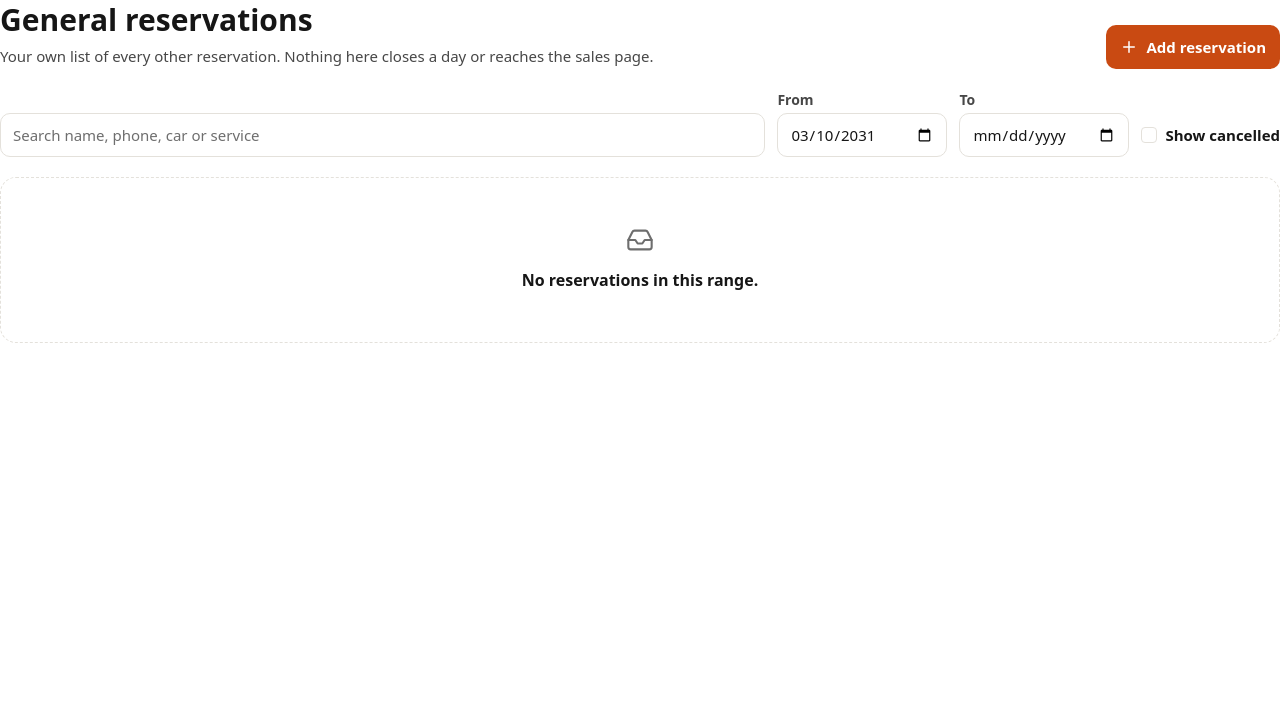
Scenario: General reservations page › adds a reservation with only a day and a service
Expected: the text "No reservations in this range." is shown, [522,266,758,294]
Click the button "Add reservation" at [1193, 47], box [1106,25,1279,69]
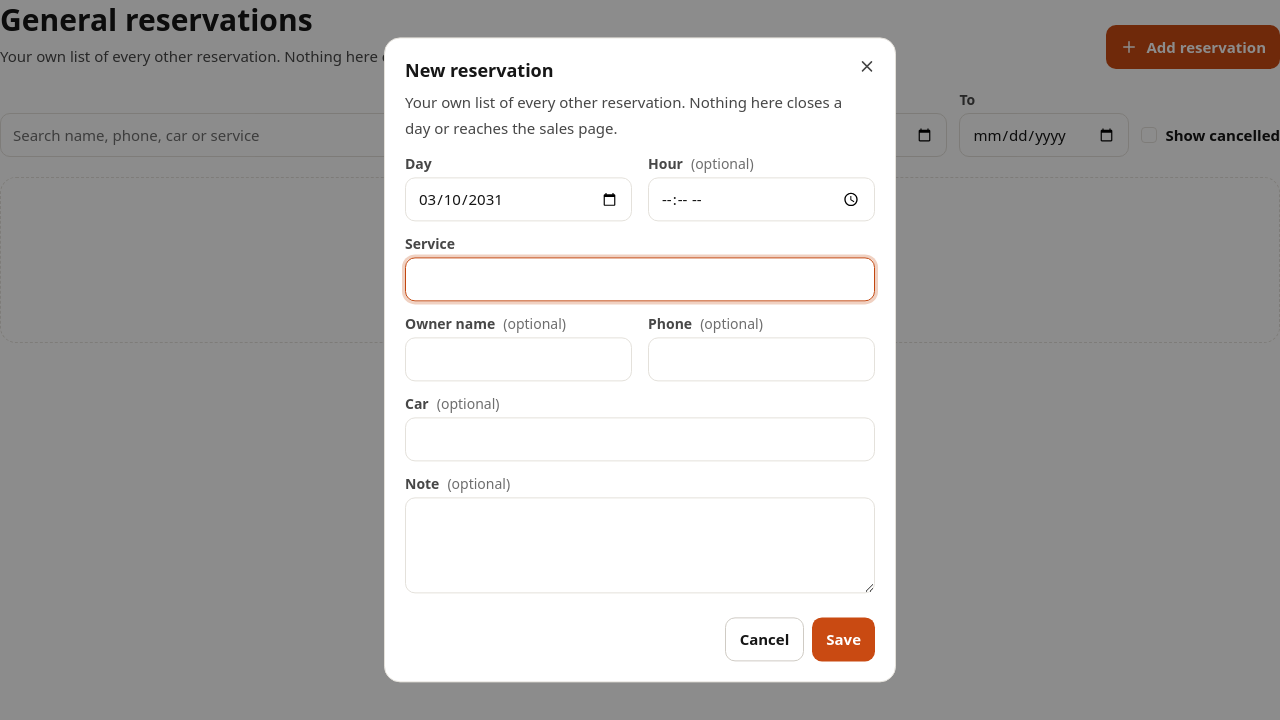
Expected: the date field labelled "Day" holds "2031-03-10", [405,178,632,222]
Click the button "Save" at [844, 640], box [812,618,875,662]
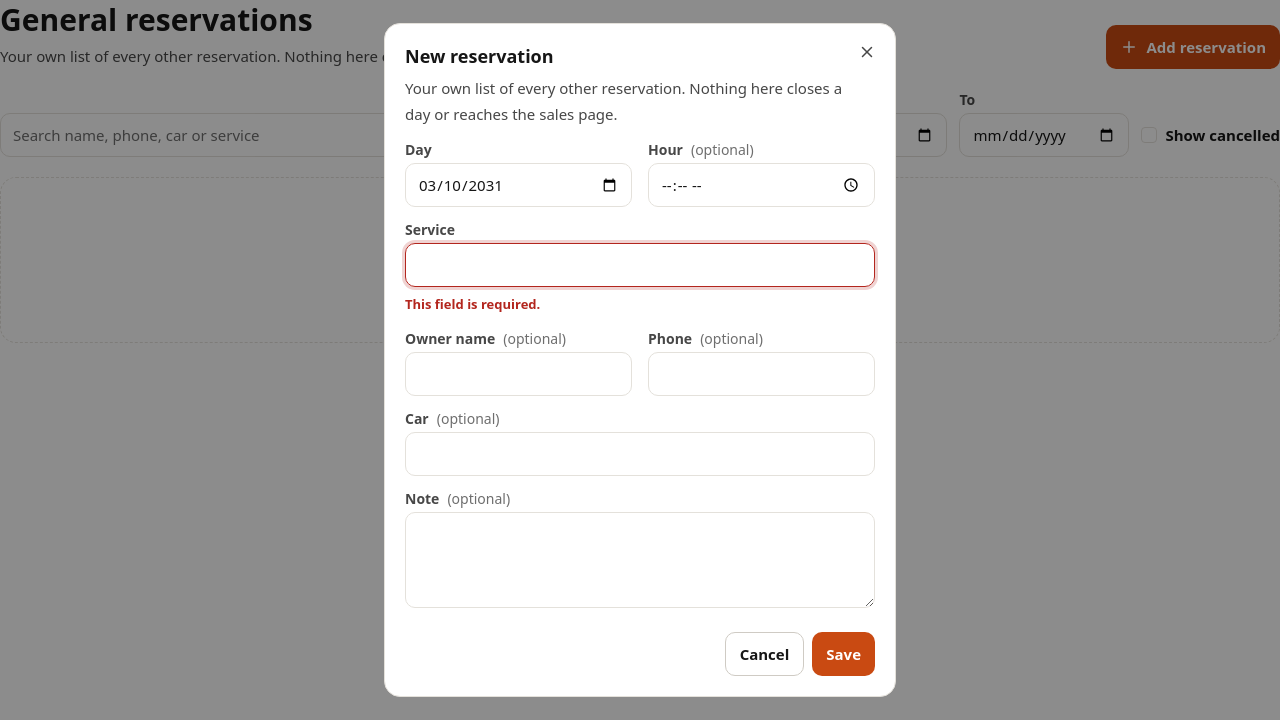
Expected: the text "This field is required." is shown, [405,295,540,313]
Type "Seat covers" into the field labelled "Service" at [640, 265], box [405,243,875,287]
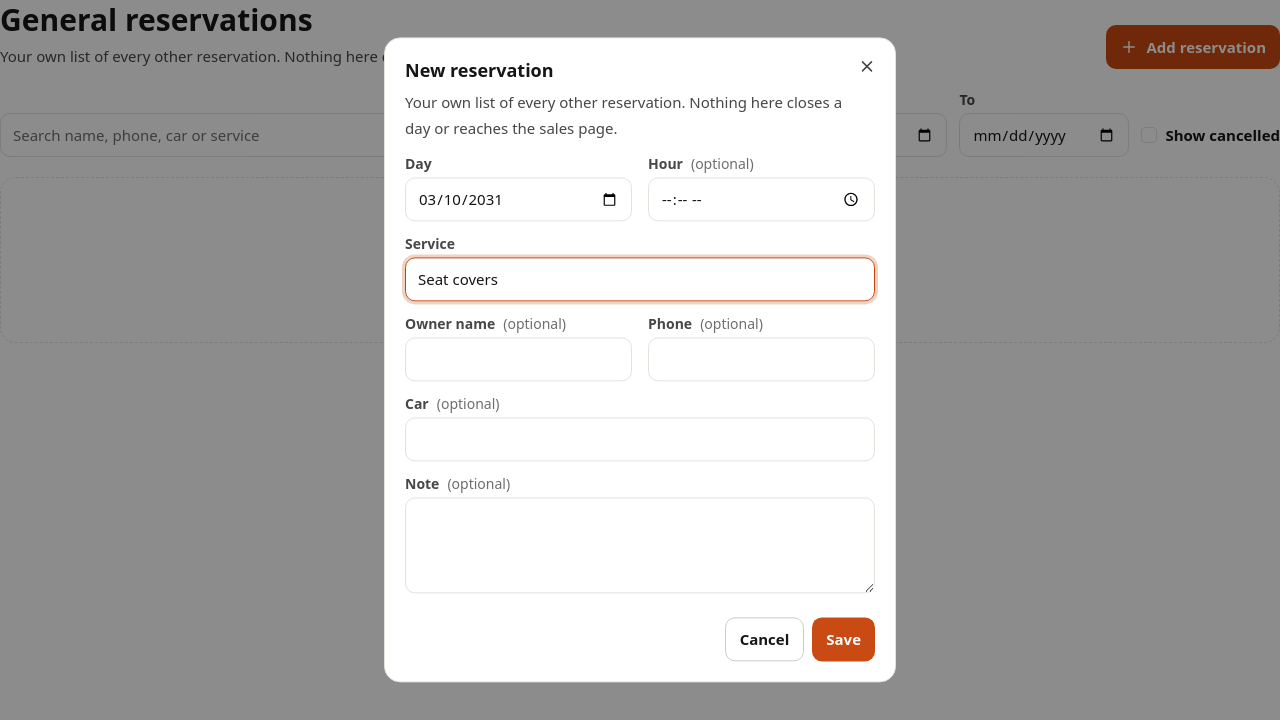
Click the button "Save" at [844, 640], box [812,618,875,662]
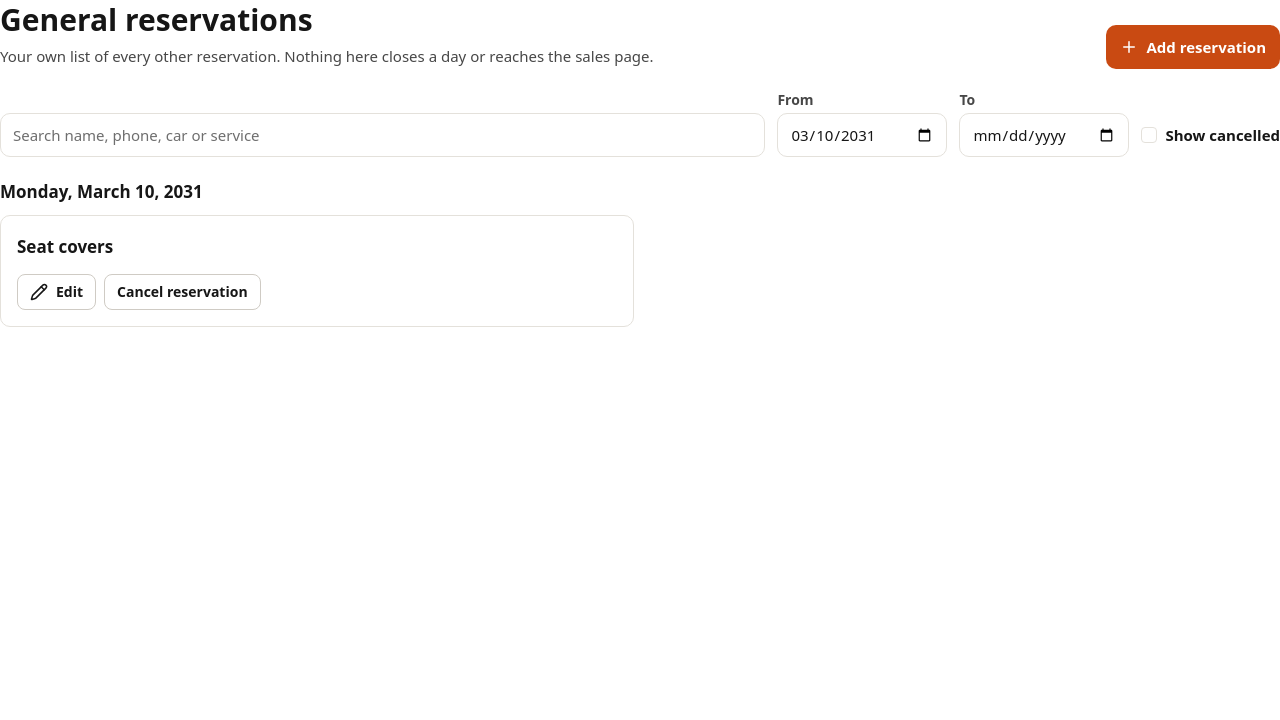
Expected: the dialog is gone
Expected: the element "Seat covers" is shown, [0,215,634,327]
